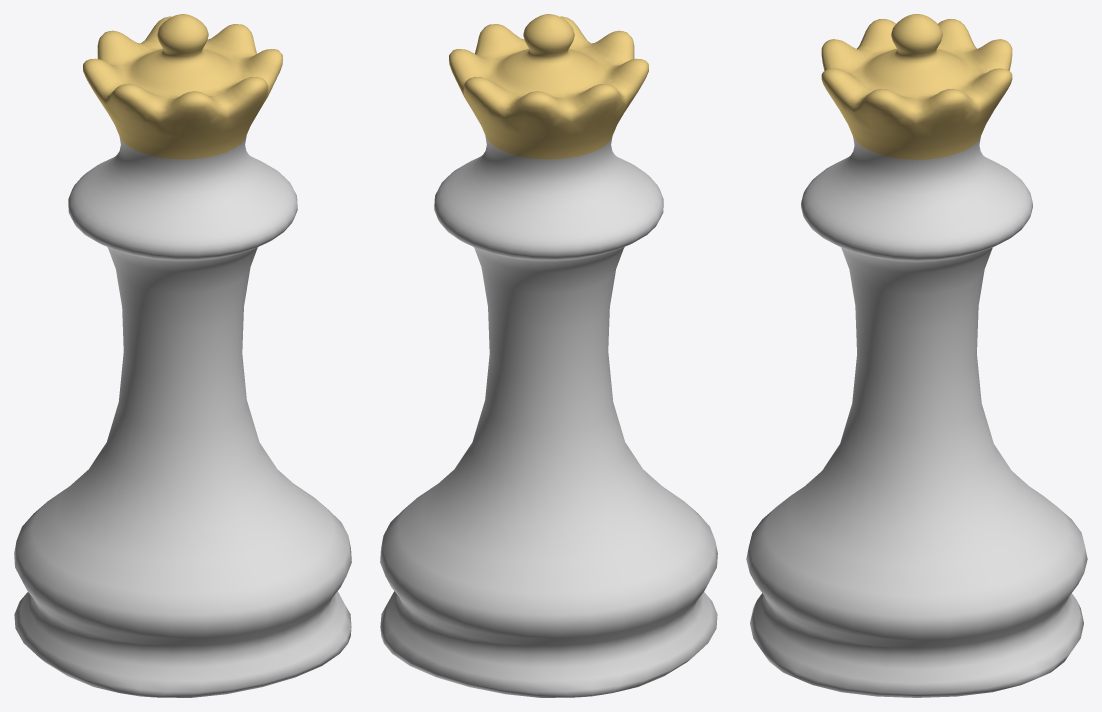
Rendered from sade_q_w.glb.
3 views of the same model, side by side, from view 1: azimuth 30°, elevation 25°; view 2: azimuth 150°, elevation 25°; view 3: azimuth 270°, elevation 25° (orthographic).
Visible parts, largest first — view 1: x; view 2: x; view 3: x.
Boxes of the visible parts, bbox=[...] form: x: bbox=[14, 14, 351, 697]; x: bbox=[380, 14, 717, 697]; x: bbox=[746, 14, 1087, 697].
Bounding box in the file's own units: 0.4476 × 0.9 × 0.4476.
